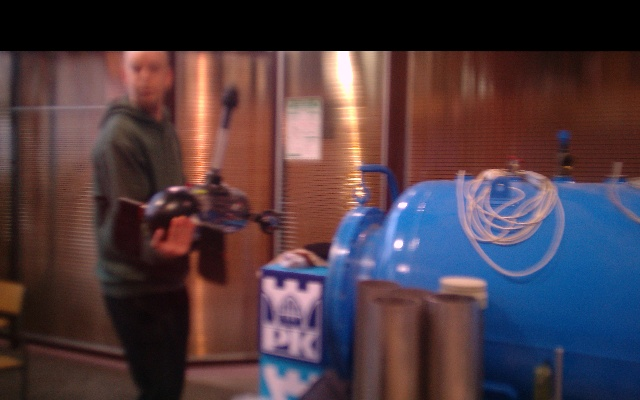black: (209, 125, 231, 172)
